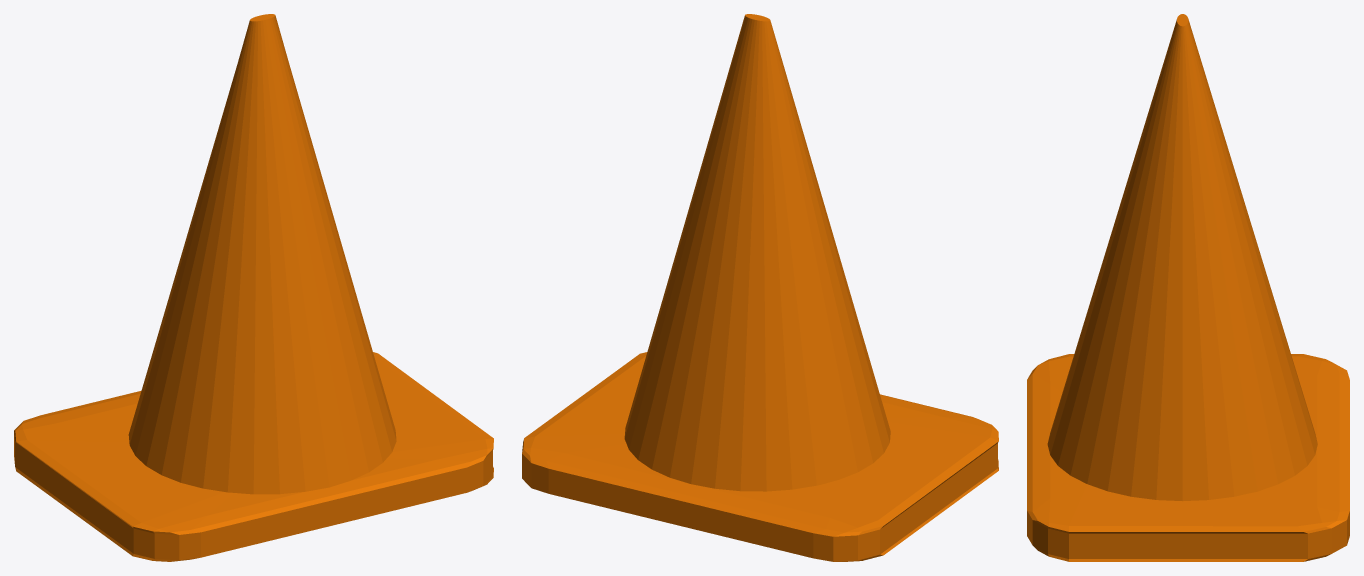
Rendered from TrafficCone1.fbx.
3 views of the same model, side by side, from view 1: azimuth 30°, elevation 25°; view 2: azimuth 150°, elevation 25°; view 3: azimuth 270°, elevation 25° (orthographic).
Visible parts, largest first — view 1: Cube; view 2: Cube; view 3: Cube.
Boxes of the visible parts, x1,y1,x2,y2 form: Cube: [14, 14, 493, 561]; Cube: [522, 14, 998, 561]; Cube: [1027, 14, 1349, 561].
Size of the model in its own units: 442 by 530 by 339.
